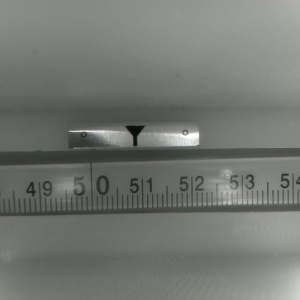0: (95, 175, 109, 195)
1: (146, 177, 153, 193)
2: (194, 176, 204, 191)
3: (244, 174, 254, 189)
4: (25, 181, 36, 197), (295, 173, 300, 188)
5: (73, 178, 85, 196), (279, 173, 289, 189), (129, 178, 139, 193), (179, 176, 188, 192)
6: (227, 174, 237, 189)
9: (41, 181, 52, 197)
finger: (122, 126, 145, 147)
